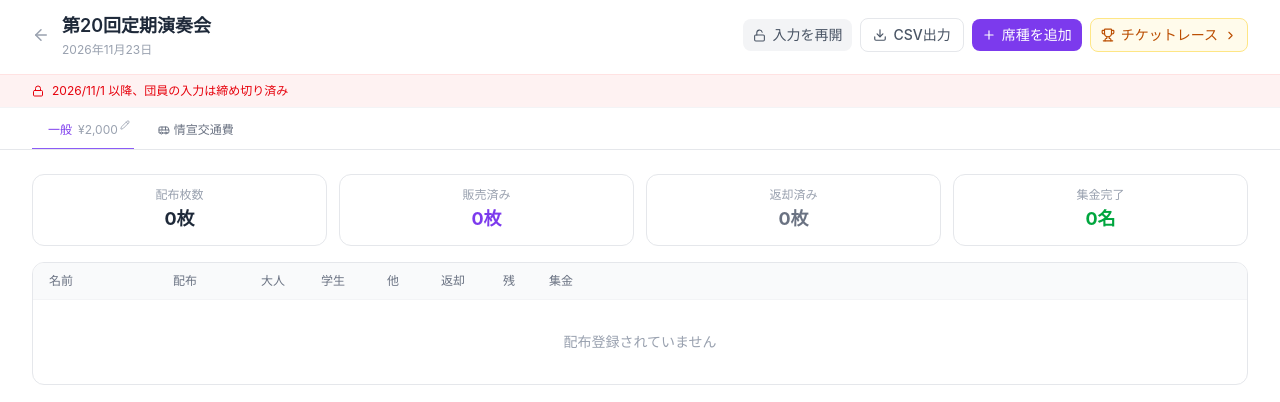
it: TicketDetailPage（締切バナー・締切/再開ボタン） › 締切済みの場合はバナーと「入力を再開」ボタンを表示し、クリックでreopenTicketInputが呼ばれる
Expected: the text "2026/11/1 以降、団員の入力は締め切り済み" is shown, [32,83,288,98]
Click the button "入力を再開" at coordinates (798, 35), box [743,19,852,51]
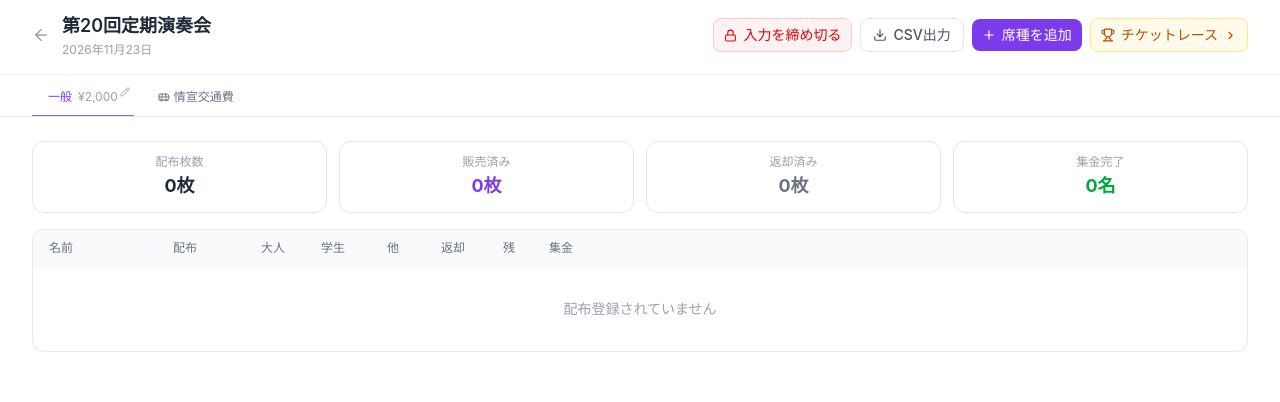
Expected: the text "以降、団員の入力は締め切り済み" is gone
